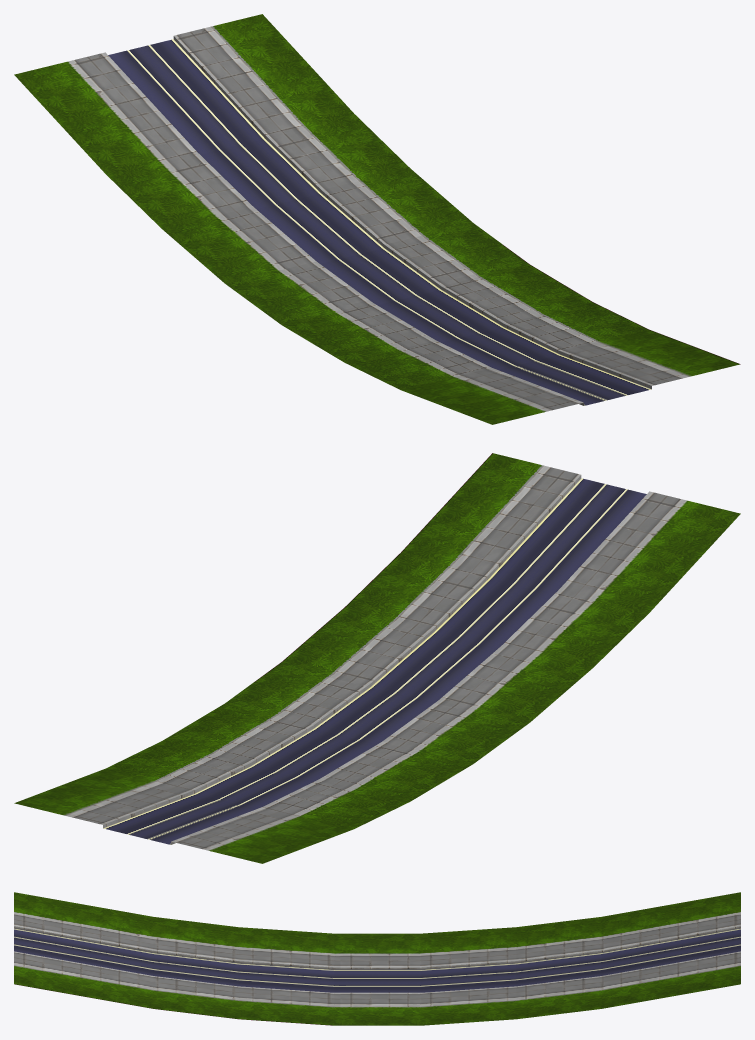
The model's file is pk_model_dianmian_2.FBX.
3 views of the same model, one above another, from view 1: azimuth 30°, elevation 25°; view 2: azimuth 150°, elevation 25°; view 3: azimuth 270°, elevation 25° (orthographic). The views are drawn at different scales.
Visible parts, largest first — view 1: Object092; view 2: Object092; view 3: Object092.
Boxes of the visible parts, x1,y1,x2,y2 form: Object092: [14, 14, 740, 424]; Object092: [14, 453, 740, 863]; Object092: [14, 892, 740, 1025].
Size of the model in its own units: 3028 by 675 by 10100.
1 material, 1 textured.
